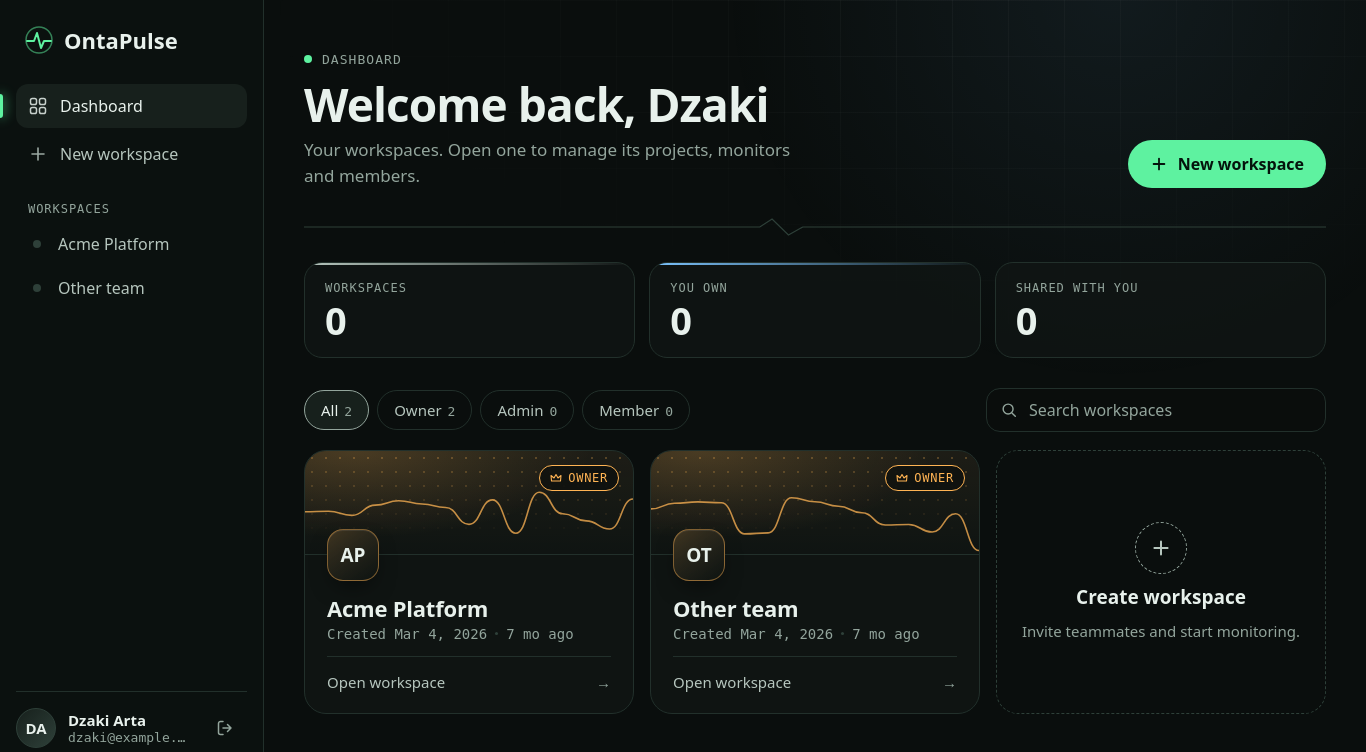
Test case: AppRoutes signed-in layout › keeps the shell between screens and loads the workspace list once
Expected: the heading "Welcome back, Dzaki" is shown, 304,80 -> 810,129
Click the link named "Open workspace": (469, 582) 305,451 -> 633,713
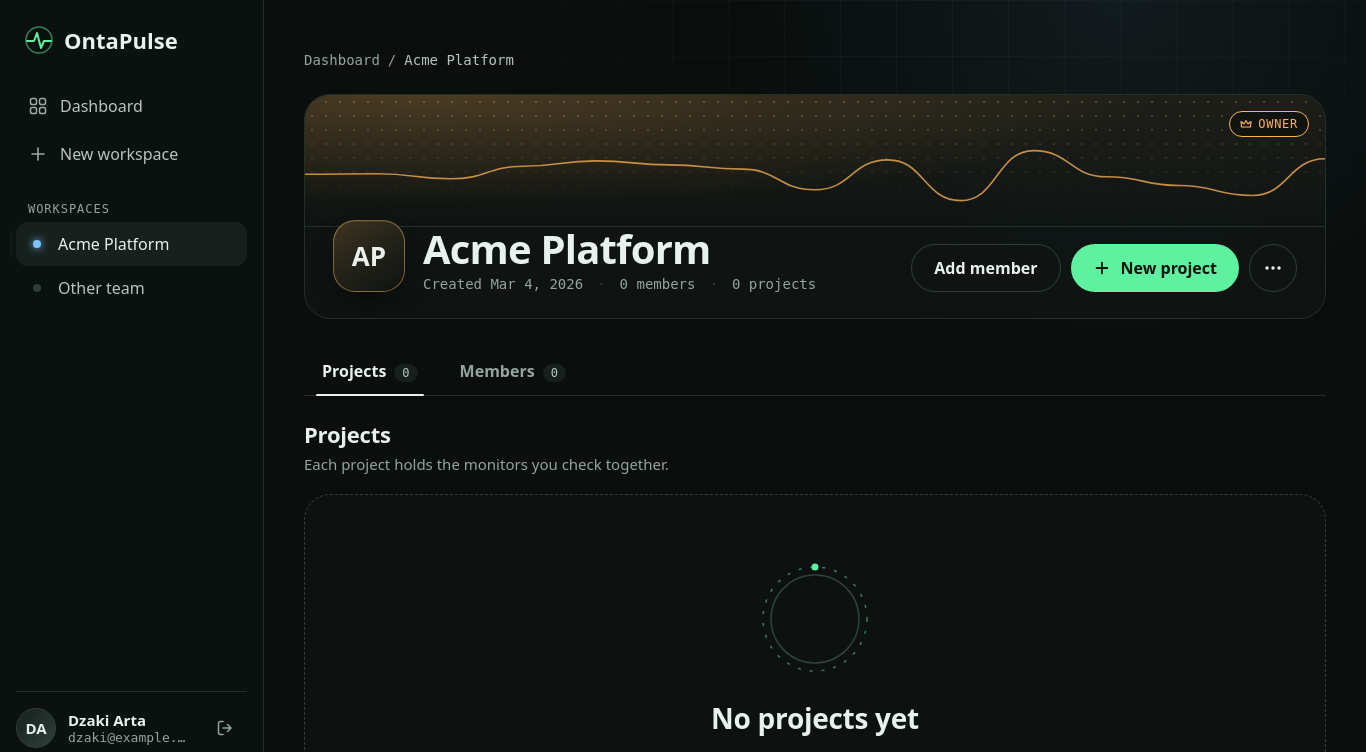
Expected: the link "Acme Platform" is shown, 16,222 -> 247,266
Now the heading "Acme Platform" is shown, box 423,221 -> 711,276
Click the link "Dashboard" below "OntaPulse": (85, 106) 28,95 -> 143,117
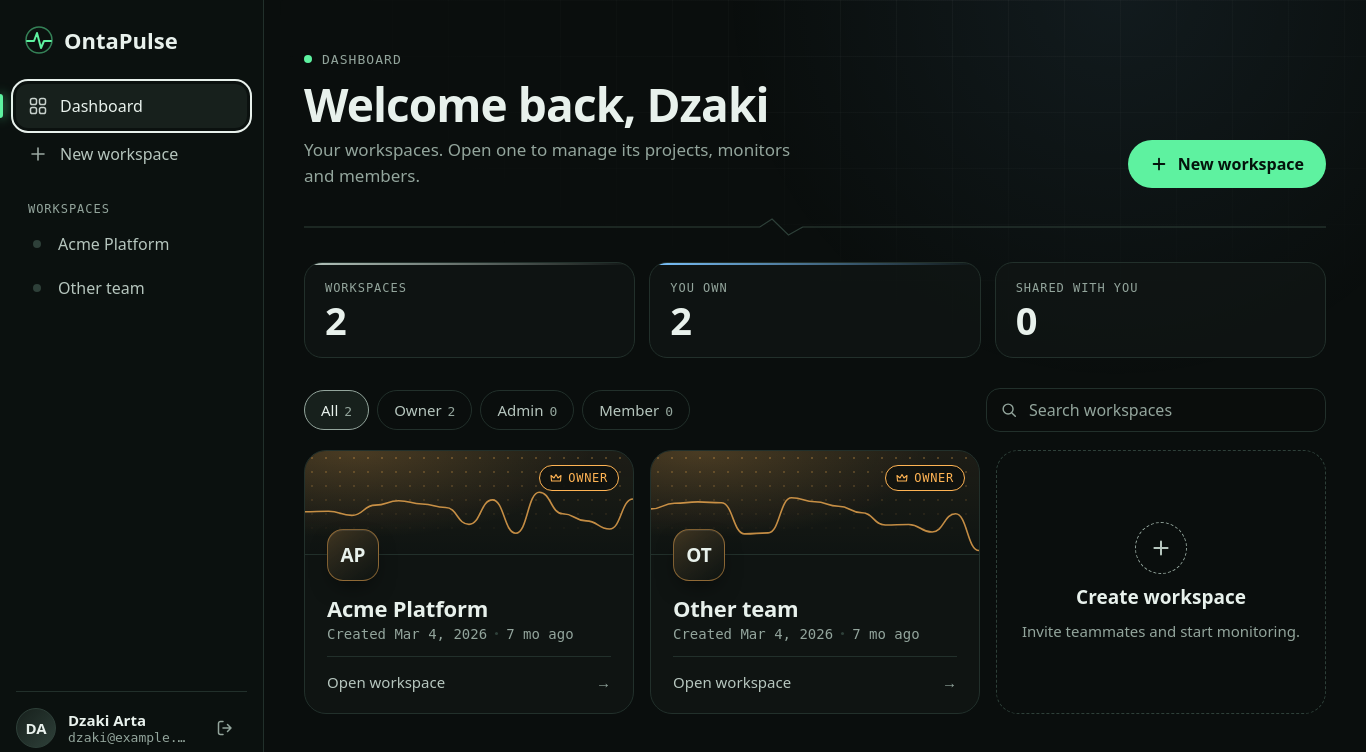
Expected: the link "Acme Platform" is shown, 33,233 -> 169,255
Now the heading "Welcome back, Dzaki" is shown, box 304,80 -> 810,129
